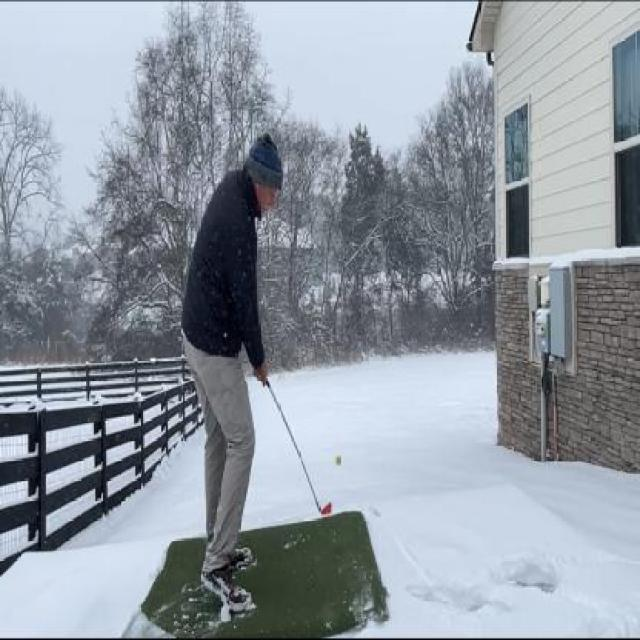club head: (315, 500, 334, 518)
